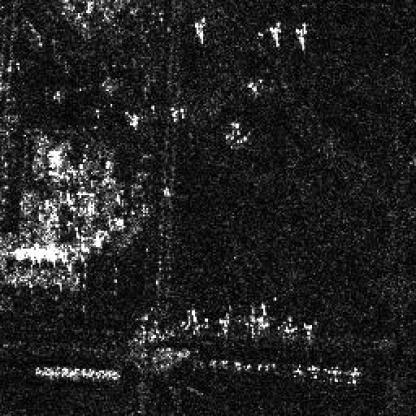airplane: (344, 364, 362, 385), (322, 364, 341, 382), (304, 362, 323, 377), (289, 362, 306, 377)
